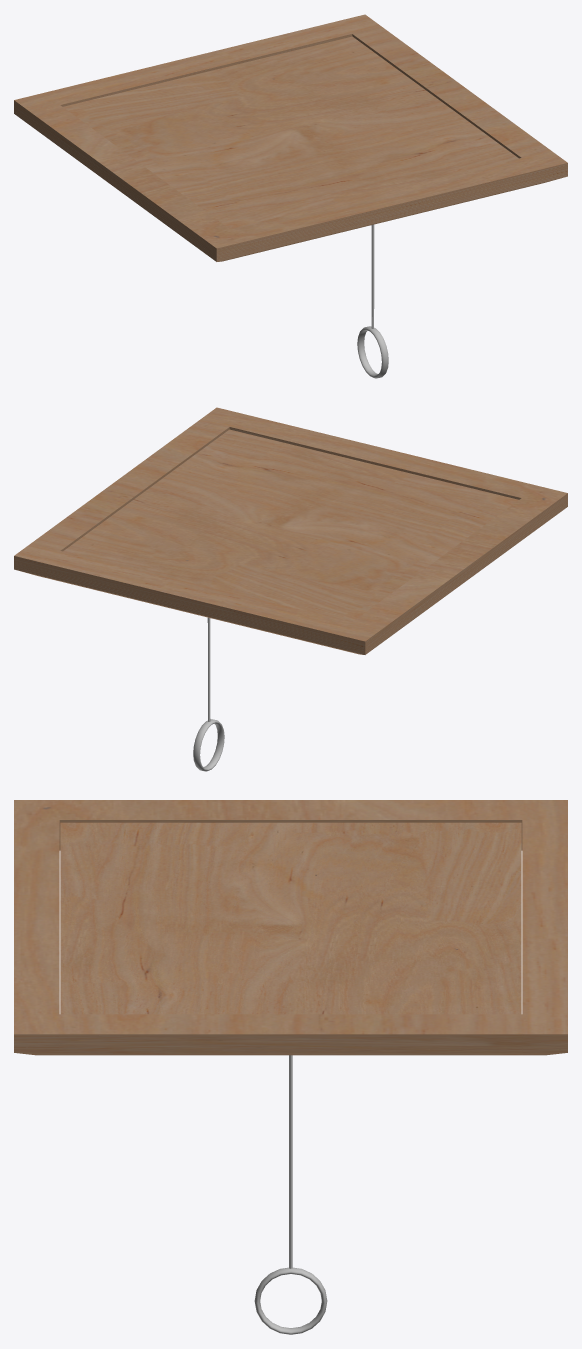
Rendered from alcapao.fbx.
3 views of the same model, one above another, from view 1: azimuth 30°, elevation 25°; view 2: azimuth 150°, elevation 25°; view 3: azimuth 270°, elevation 25° (orthographic). The views are drawn at different scales.
Parts seen in each view (by area): view 1: pCube1, pCube2, pTorus1; view 2: pCube1, pCube2, pTorus1; view 3: pCube1, pCube2, pTorus1, pCylinder1.
Part boxes in pixels (x1,y1,x2,y2): pCube1: (63, 36, 518, 228); pCube2: (14, 14, 567, 261); pTorus1: (357, 326, 388, 378); pCube1: (63, 429, 518, 621); pCube2: (14, 407, 567, 654); pTorus1: (193, 719, 224, 771); pCube1: (60, 822, 521, 1014); pCube2: (14, 800, 567, 1055); pTorus1: (254, 1267, 327, 1334); pCylinder1: (289, 1055, 292, 1268).
Size of the model in its own units: 1.2 by 0.8658 by 1.2.
